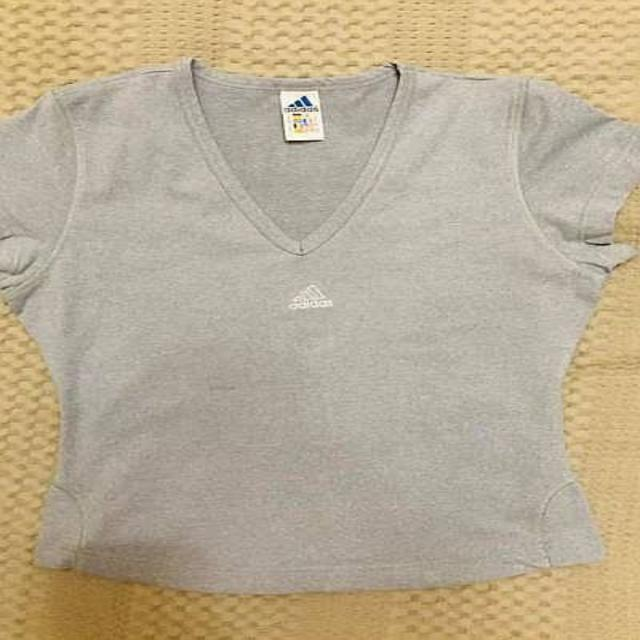T_SHIRT: (3, 58, 640, 603)
